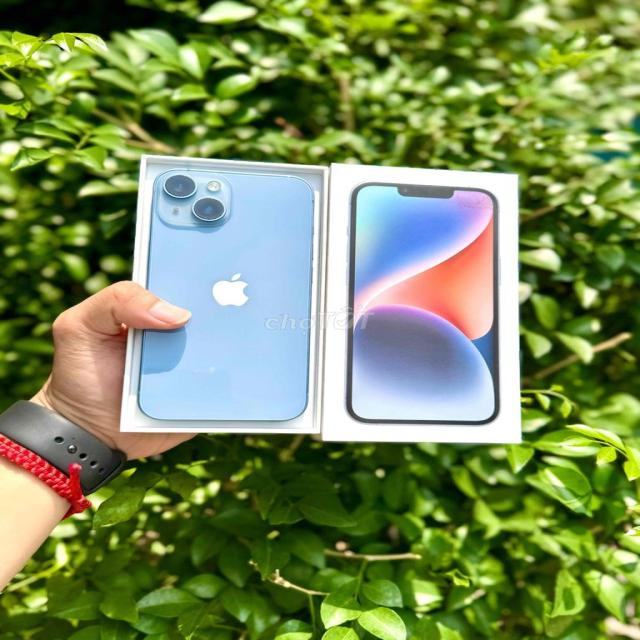gen_14: (132, 162, 325, 426)
